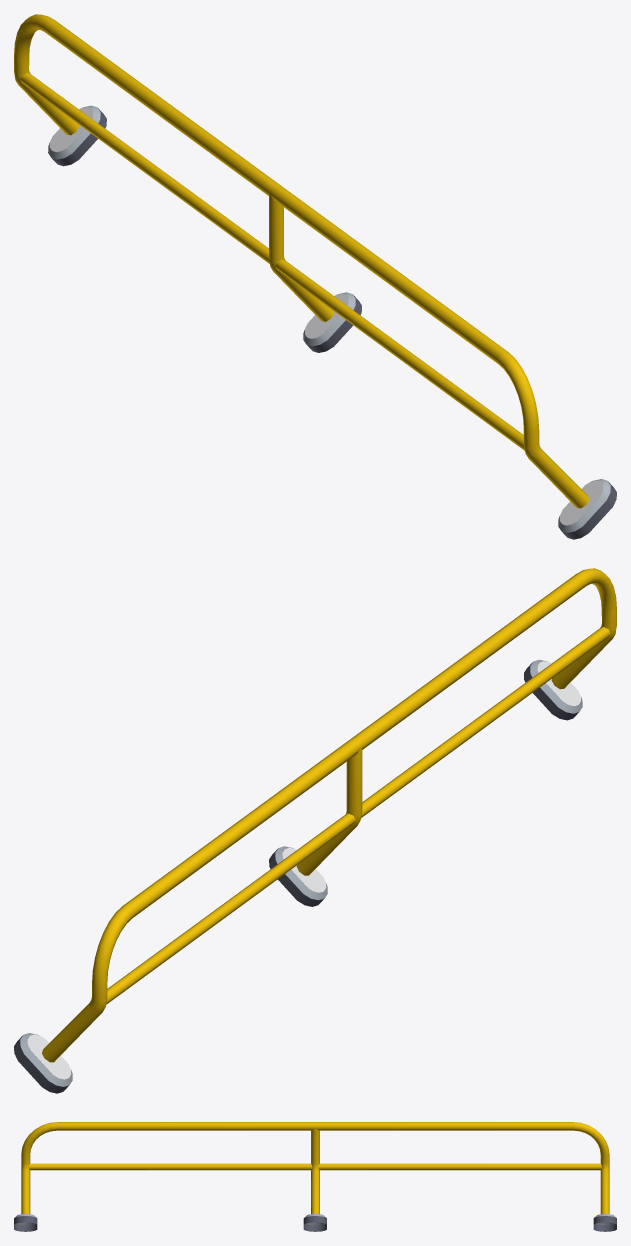
Rendered from Wall_Fence_01.FBX.
The picture shows the model from 3 angles, top to bottom: view 1: azimuth 30°, elevation 25°; view 2: azimuth 150°, elevation 25°; view 3: azimuth 270°, elevation 25°; orthographic projection. The views are drawn at different scales.
Parts seen in each view (by area): view 1: Wall_Fence_01; view 2: Wall_Fence_01; view 3: Wall_Fence_01.
Boxes of the visible parts, bbox=[...] form: Wall_Fence_01: bbox=[14, 14, 616, 539]; Wall_Fence_01: bbox=[14, 568, 616, 1093]; Wall_Fence_01: bbox=[14, 1122, 616, 1231].
Size of the model in its own units: 0.4547 by 0.8533 by 4.68.
